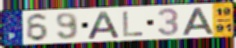3: (156, 7, 180, 38)
6: (25, 12, 49, 42)
9: (54, 11, 80, 41)
A: (181, 6, 215, 36), (86, 11, 121, 40)
L: (122, 10, 146, 38)
